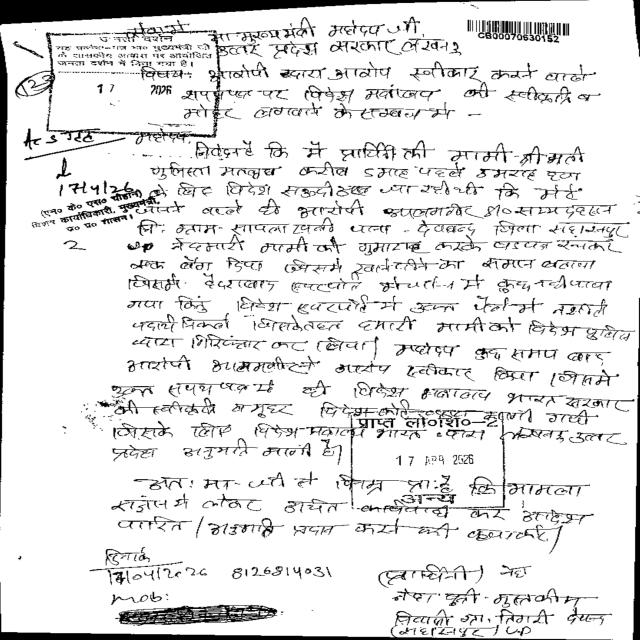antritgovtstamp: (347, 407, 509, 514)
barcode: (467, 15, 574, 45)
